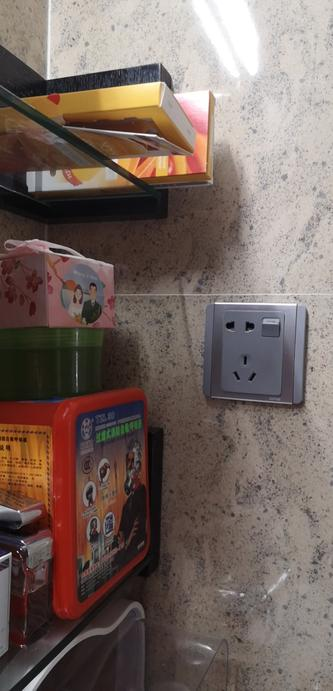switch: (255, 319, 290, 338)
